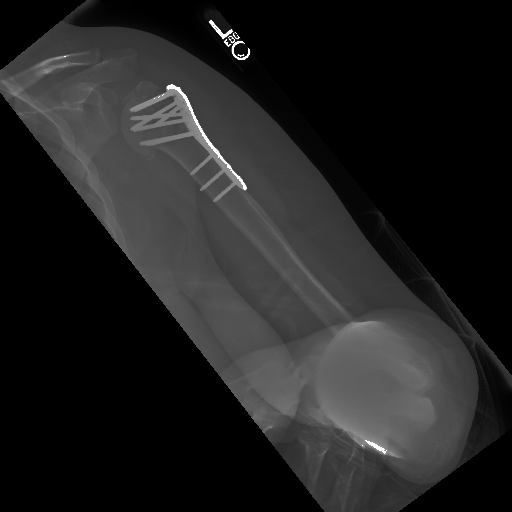implant: (125, 83, 248, 202)
